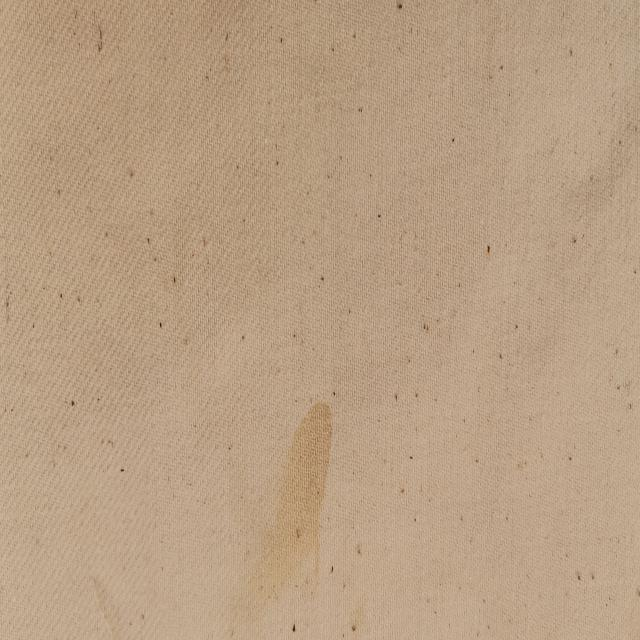taaaches: (235, 373, 344, 638)
